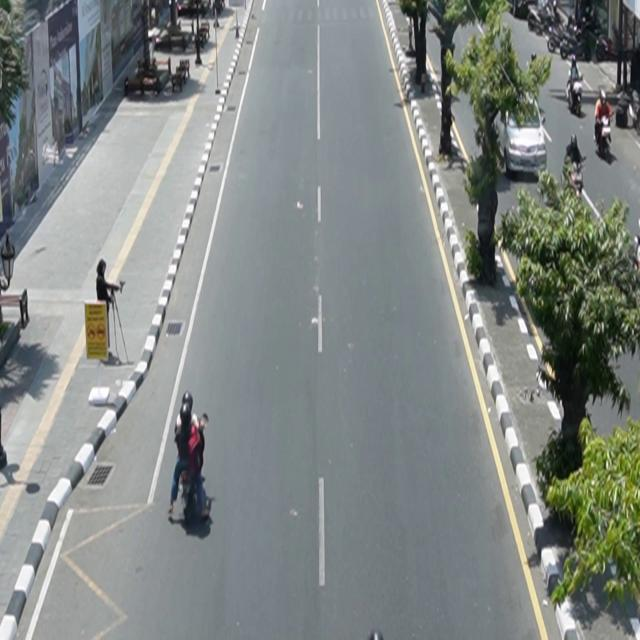car: (493, 90, 548, 180)
